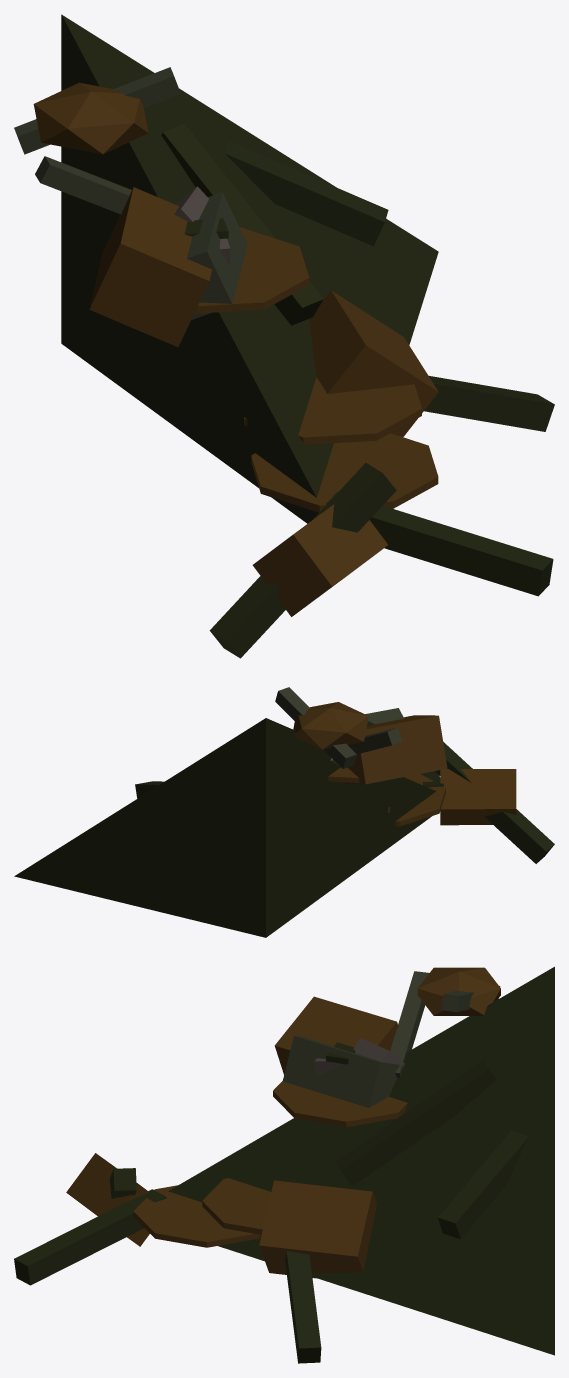
The model's file is SM_PilaZombi_RemateDer_Altura2_s1_LOD0.fbx.
3 views of the same model, one above another, from view 1: azimuth 30°, elevation 25°; view 2: azimuth 150°, elevation 25°; view 3: azimuth 270°, elevation 25° (orthographic). The views are drawn at different scales.
Parts seen in each view (by area): view 1: SM_pila_zombis_v6_LOD0; view 2: SM_pila_zombis_v6_LOD0; view 3: SM_pila_zombis_v6_LOD0.
Boxes of the visible parts, bbox=[...] form: SM_pila_zombis_v6_LOD0: bbox=[14, 14, 554, 658]; SM_pila_zombis_v6_LOD0: bbox=[14, 687, 554, 937]; SM_pila_zombis_v6_LOD0: bbox=[14, 966, 554, 1363].
Bounding box in the file's own units: 2.2 × 1.63 × 2.65.
